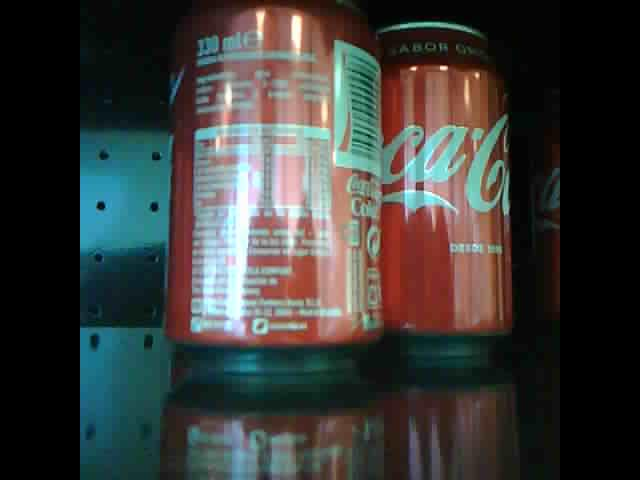coca cola: (163, 3, 383, 376), (377, 19, 518, 355)
